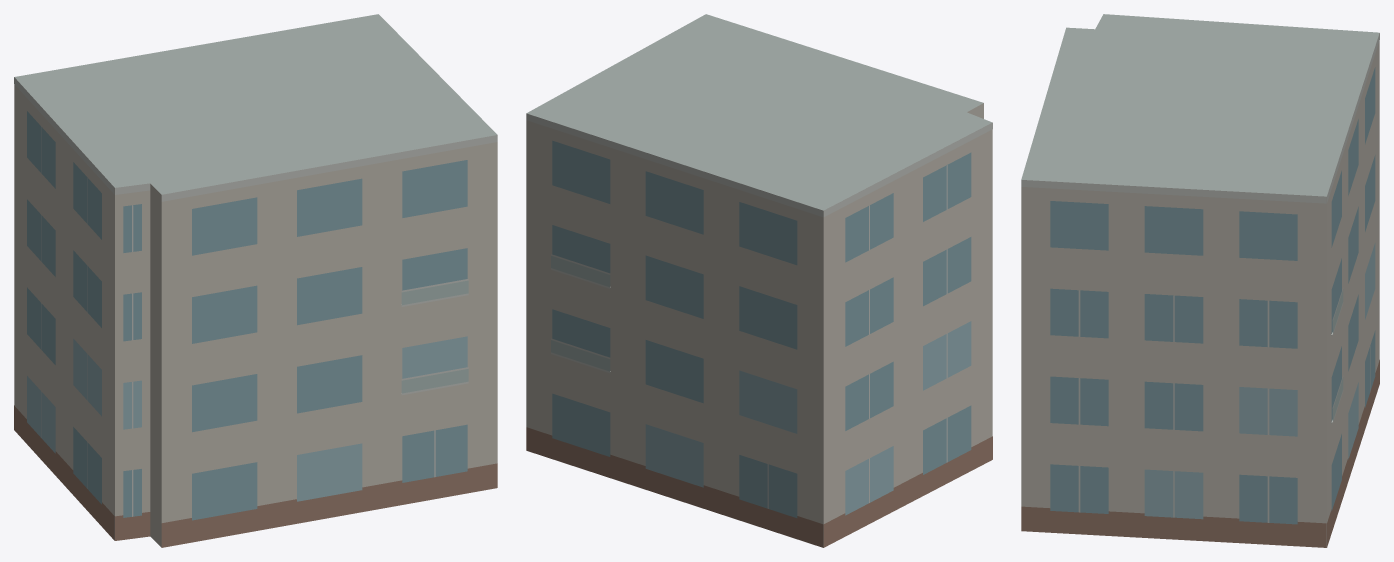
Rendered from survey-upis-33033738.glb.
The picture shows the model from 3 angles, left to right: view 1: azimuth 30°, elevation 25°; view 2: azimuth 150°, elevation 25°; view 3: azimuth 270°, elevation 25°; orthographic projection. The views are drawn at different scales.
Parts seen in each view (by area): view 1: survey-upis-33033738.tmp; view 2: survey-upis-33033738.tmp; view 3: survey-upis-33033738.tmp.
Boxes of the visible parts, <box> form: survey-upis-33033738.tmp: <box>14,14,497,547</box>; survey-upis-33033738.tmp: <box>526,14,992,547</box>; survey-upis-33033738.tmp: <box>1021,14,1379,547</box>.
Size of the model in its own units: 13.61 by 12.2 by 11.3.
